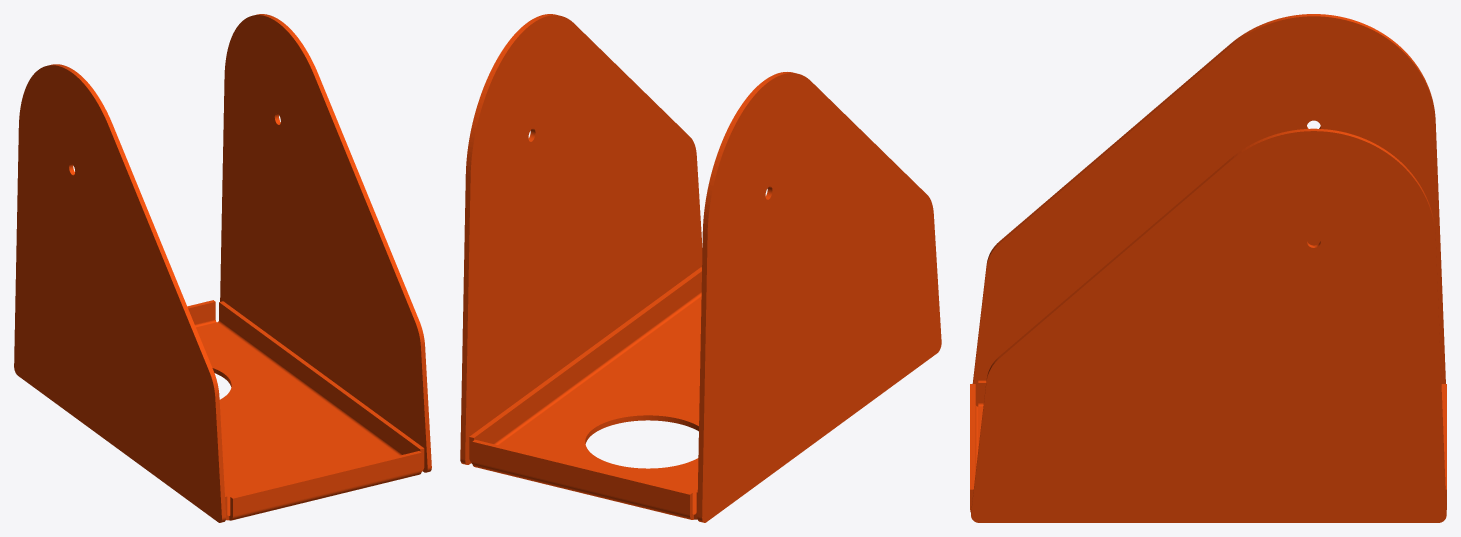
File: shoulder.dae
3 views of the same model, side by side, from view 1: azimuth 30°, elevation 25°; view 2: azimuth 150°, elevation 25°; view 3: azimuth 270°, elevation 25° (orthographic). The views are drawn at different scales.
Parts seen in each view (by area): view 1: body side (×2), body bottom; view 2: body side (×2), body bottom; view 3: body side (×2), body bottom.
Boxes of the visible parts, box(x1,y1,x2,y2) form: body side (×2): box(14, 14, 431, 522); body bottom: box(187, 300, 424, 520); body side (×2): box(460, 14, 941, 522); body bottom: box(469, 267, 701, 519); body side (×2): box(971, 14, 1446, 522); body bottom: box(970, 380, 1446, 512).
Bounding box in the file's own units: 0.1 × 0.172 × 0.156.
